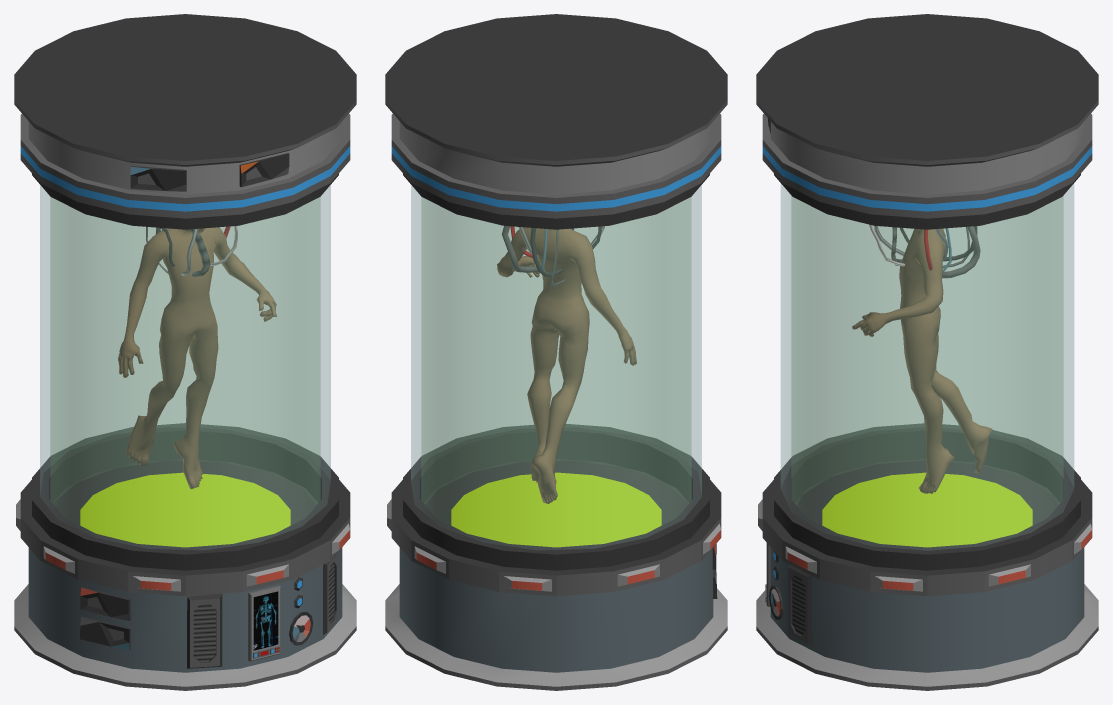
Rendered from Human_Tank_4.fbx.
3 views of the same model, side by side, from view 1: azimuth 30°, elevation 25°; view 2: azimuth 150°, elevation 25°; view 3: azimuth 270°, elevation 25° (orthographic).
Parts seen in each view (by area): view 1: Human_Tank_4, Human4; view 2: Human_Tank_4, Human4; view 3: Human_Tank_4, Human4.
Part boxes in pixels (x1,y1,x2,y2): Human_Tank_4: (14, 14, 356, 690); Human4: (118, 226, 276, 488); Human_Tank_4: (385, 14, 727, 690); Human4: (497, 226, 636, 503); Human_Tank_4: (756, 14, 1098, 690); Human4: (852, 224, 992, 493).
Size of the model in its own units: 221 by 372 by 218.
